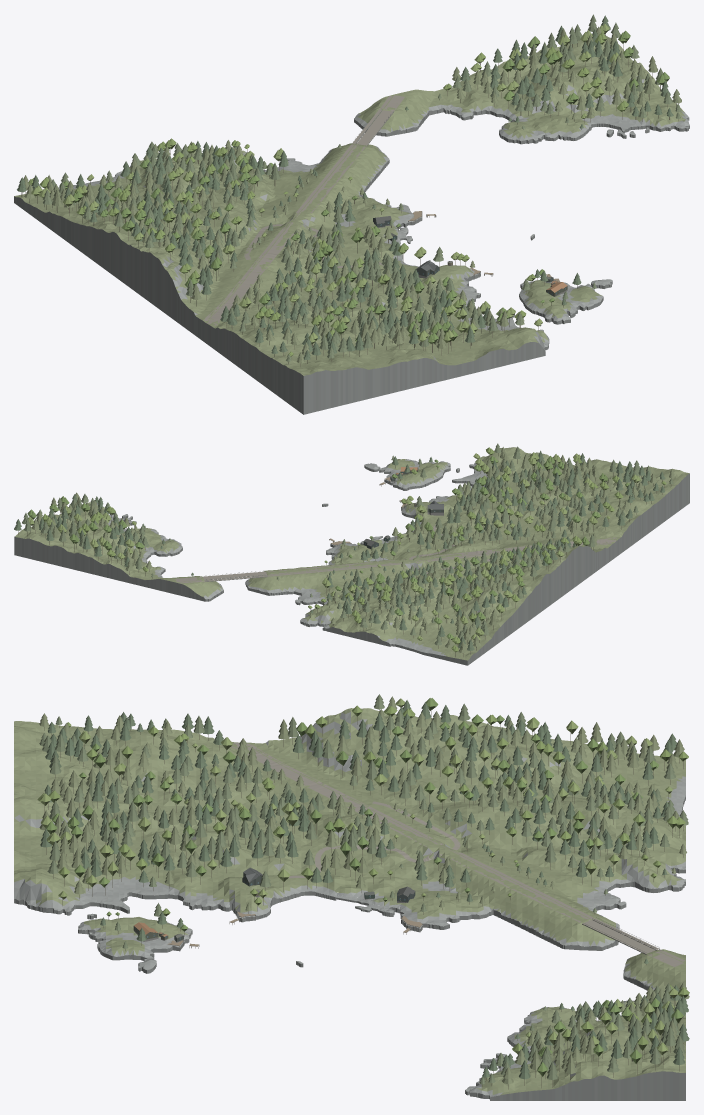
The model's file is surroundings.glb.
The picture shows the model from 3 angles, top to bottom: view 1: azimuth 30°, elevation 25°; view 2: azimuth 150°, elevation 25°; view 3: azimuth 270°, elevation 25°; orthographic projection. The views are drawn at different scales.
Visible parts, largest first — view 1: context_ground, context_foliage, context_timber, context_rock; view 2: context_ground, context_foliage, context_timber, context_rock; view 3: context_ground, context_foliage, context_timber, context_rock.
Part boxes in pixels (box(x1,y1,x2,y2)): context_ground: box(14, 34, 689, 414); context_foliage: box(17, 14, 681, 363); context_timber: box(21, 34, 678, 366); context_rock: box(353, 109, 567, 296); context_ground: box(14, 447, 689, 665); context_foliage: box(14, 443, 674, 652); context_timber: box(18, 453, 672, 656); context_rock: box(205, 467, 443, 581); context_ground: box(14, 708, 685, 1100); context_foliage: box(37, 694, 689, 1084); context_timber: box(44, 710, 683, 1089); context_rock: box(134, 867, 659, 954).
Bounding box in the file's own units: 435 × 44.58 × 367.
